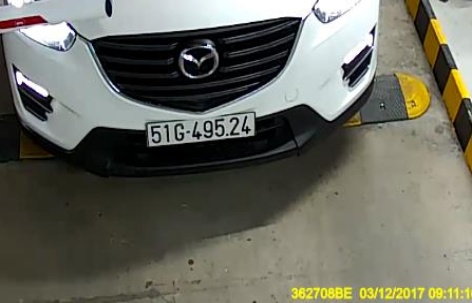plate: (145, 113, 258, 146)
